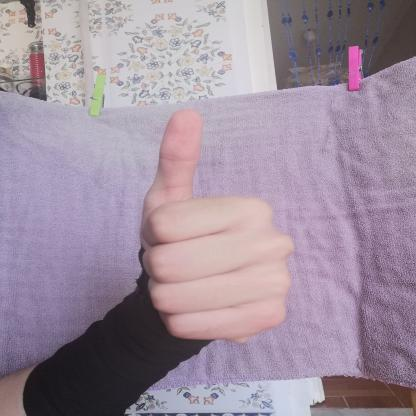ALIF: (112, 94, 315, 351)
